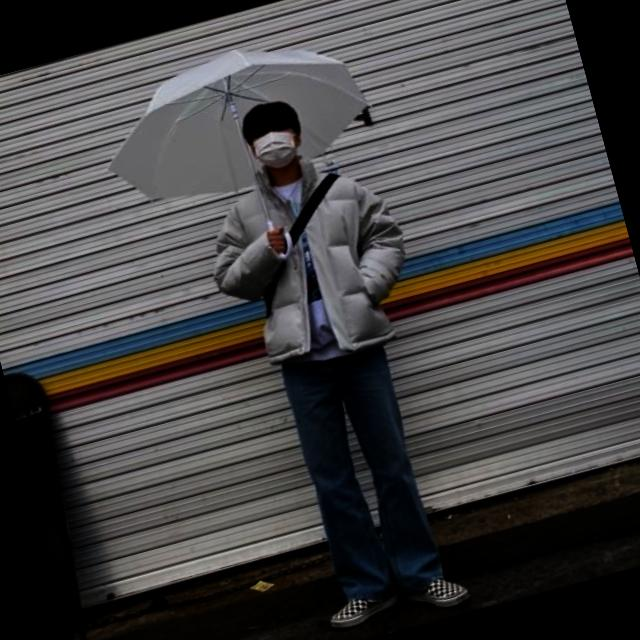denimpants: (274, 326, 452, 612)
padding: (188, 131, 428, 381)
